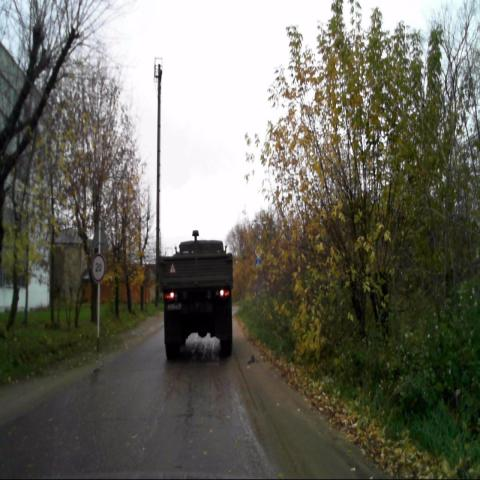2_1: (254, 244, 264, 260)
3_24: (92, 253, 106, 282)
